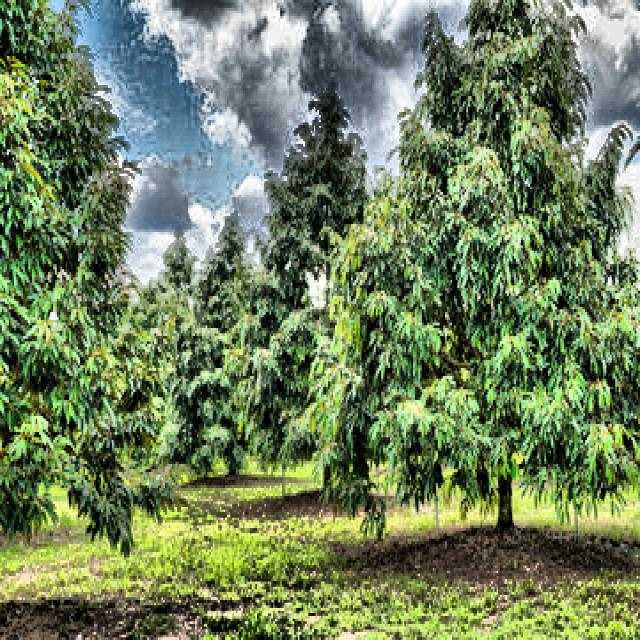arvore: (477, 314, 530, 552)
